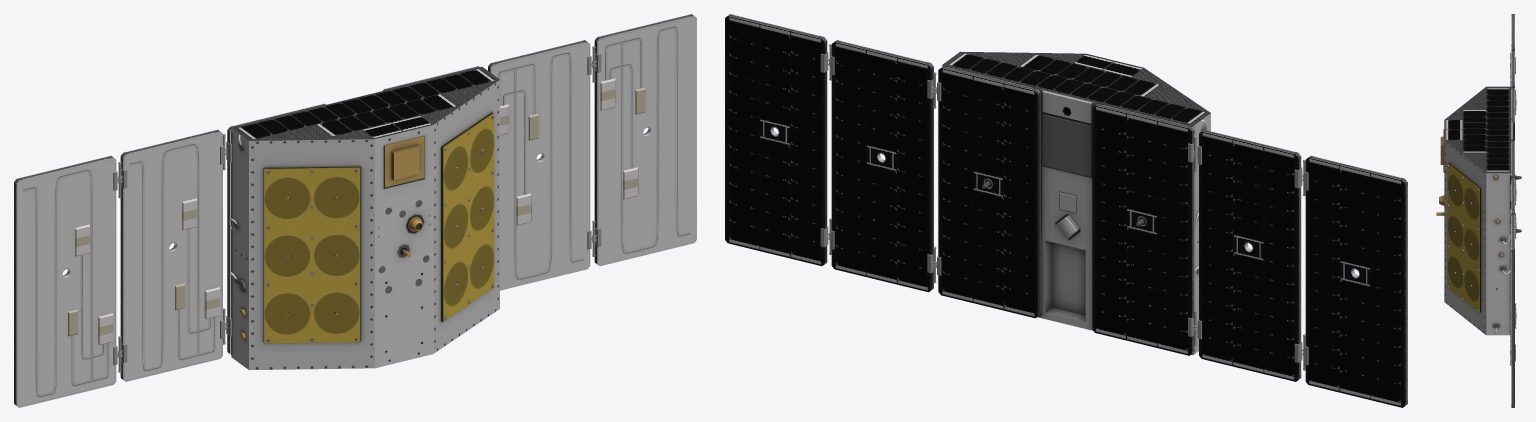
The model's file is cygnss 2.glb.
The picture shows the model from 3 angles, left to right: view 1: azimuth 30°, elevation 25°; view 2: azimuth 150°, elevation 25°; view 3: azimuth 270°, elevation 25°; orthographic projection. The views are drawn at different scales.
Parts seen in each view (by area): view 1: BUS; view 2: BUS; view 3: BUS.
Part boxes in pixels (x1,y1,x2,y2): BUS: (14, 14, 696, 407); BUS: (725, 14, 1407, 407); BUS: (1436, 14, 1521, 407).
Bounding box in the file's own units: 1.59 × 0.5121 × 0.2442.
Materials: 2 (2 with a texture image).
